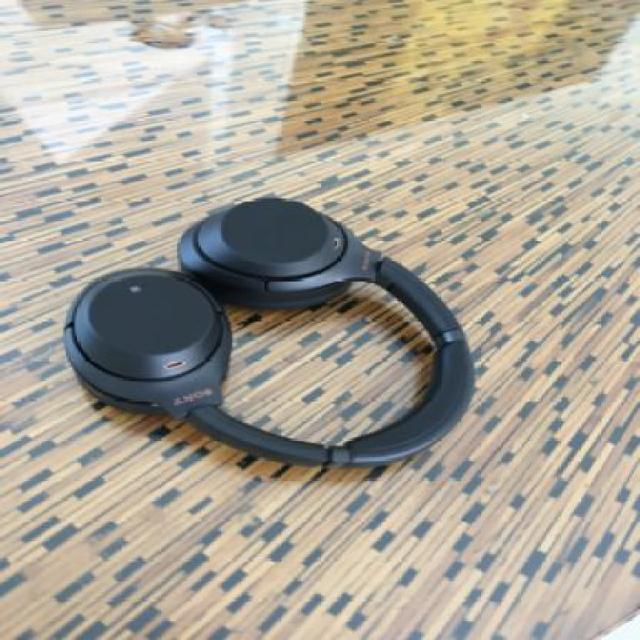earphone: (53, 187, 507, 483)
